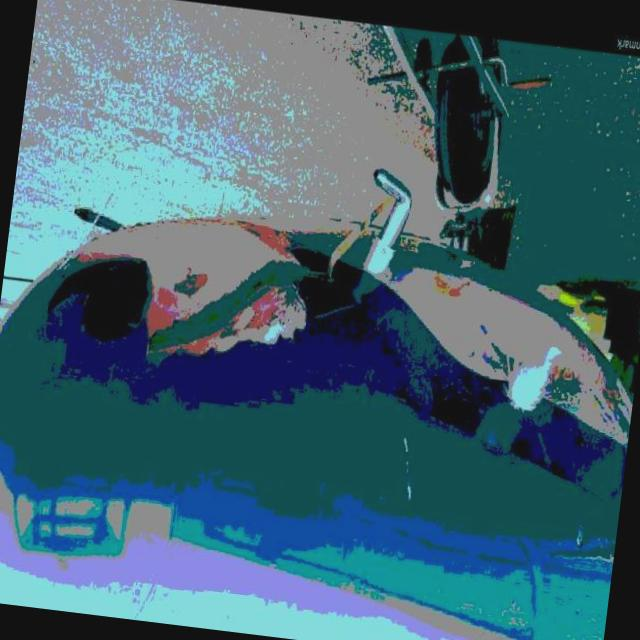dent: (416, 266, 491, 305)
